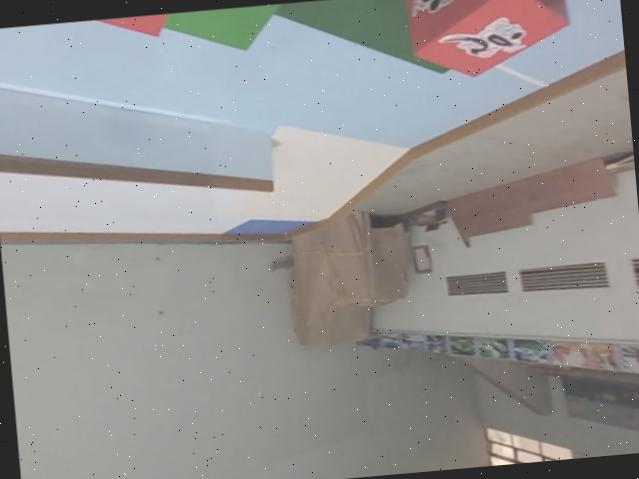R1: (404, 0, 576, 83)
